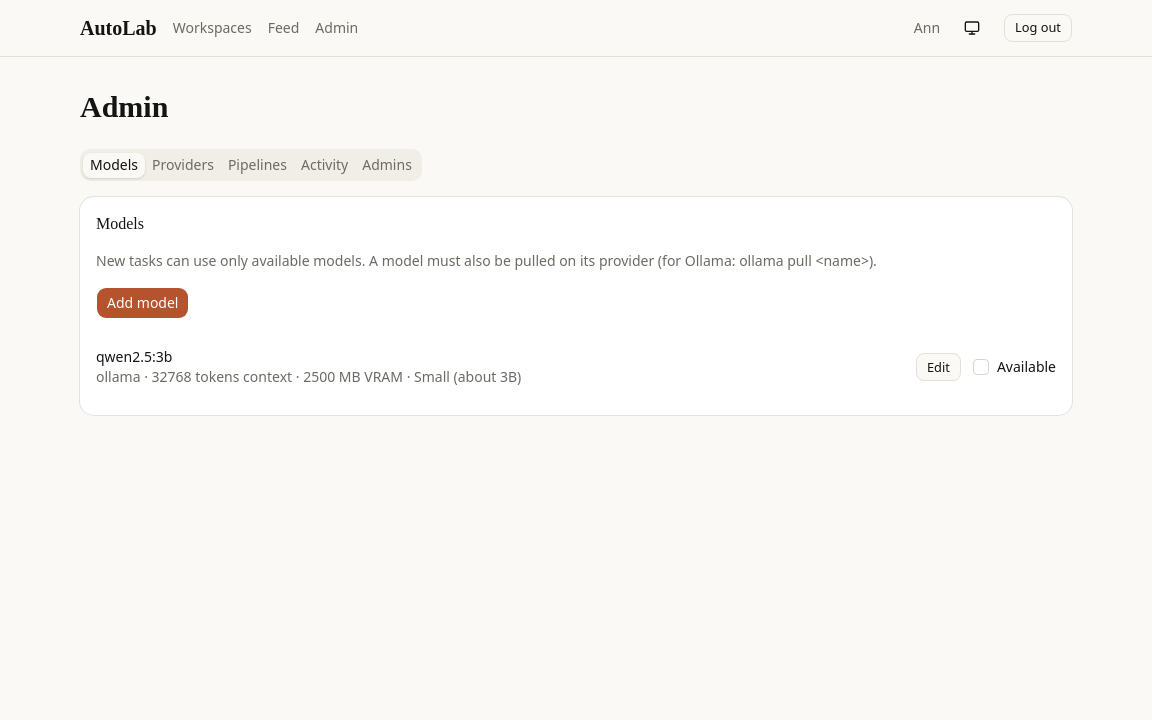
Test case: an admin adds a model and makes it available
expect the text "qwen2.5:3b" is shown: met, box [96, 347, 172, 366]
expect the text "ollama · 32768 tokens context · 2500 MB VRAM · Small (about 3B)" is shown: met, box [96, 367, 521, 387]
Click the checkbox named "Available".
click(981, 367)  # box [973, 359, 989, 375]
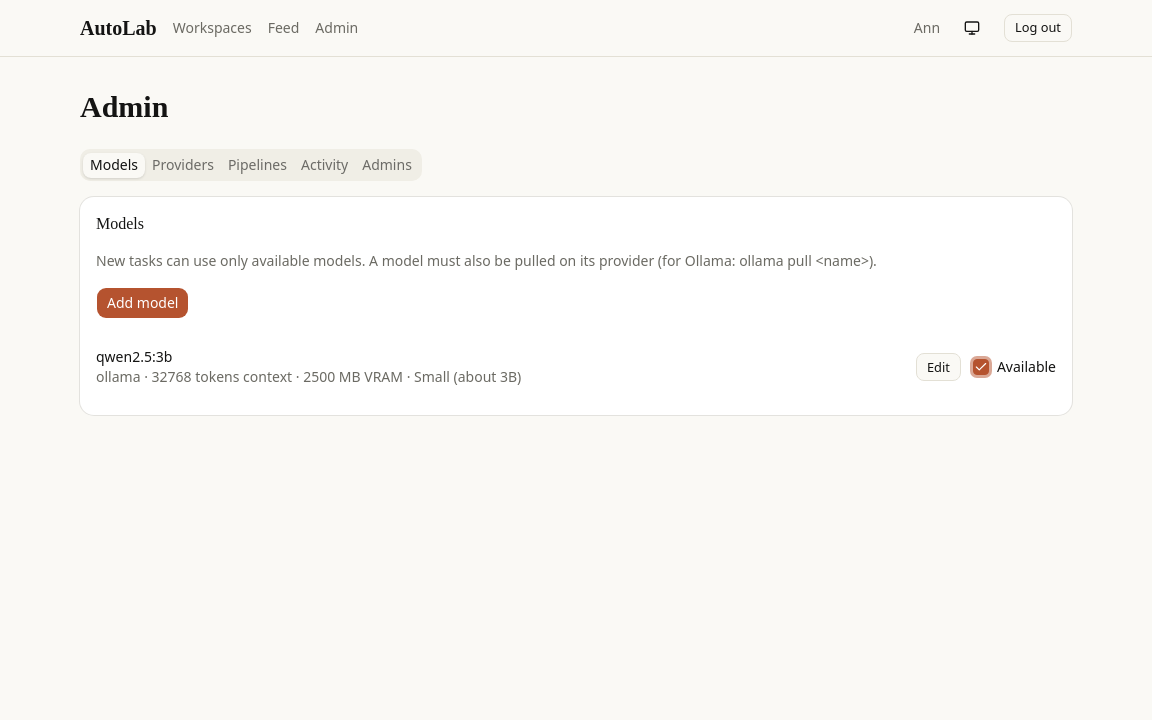
Click the button "Add model".
click(143, 303)  # box [96, 287, 190, 319]
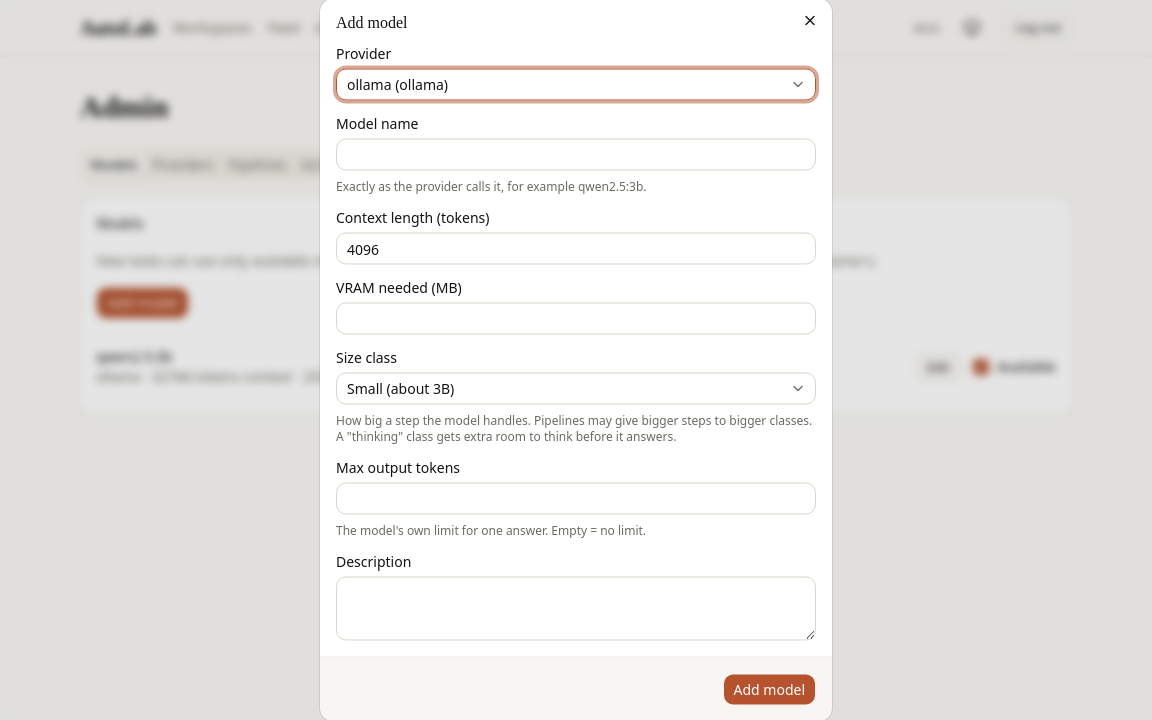
Type "llama3.2:3b" into the field labelled "Model name".
click(576, 154); type("llama3.2:3b")  # box [336, 138, 816, 170]
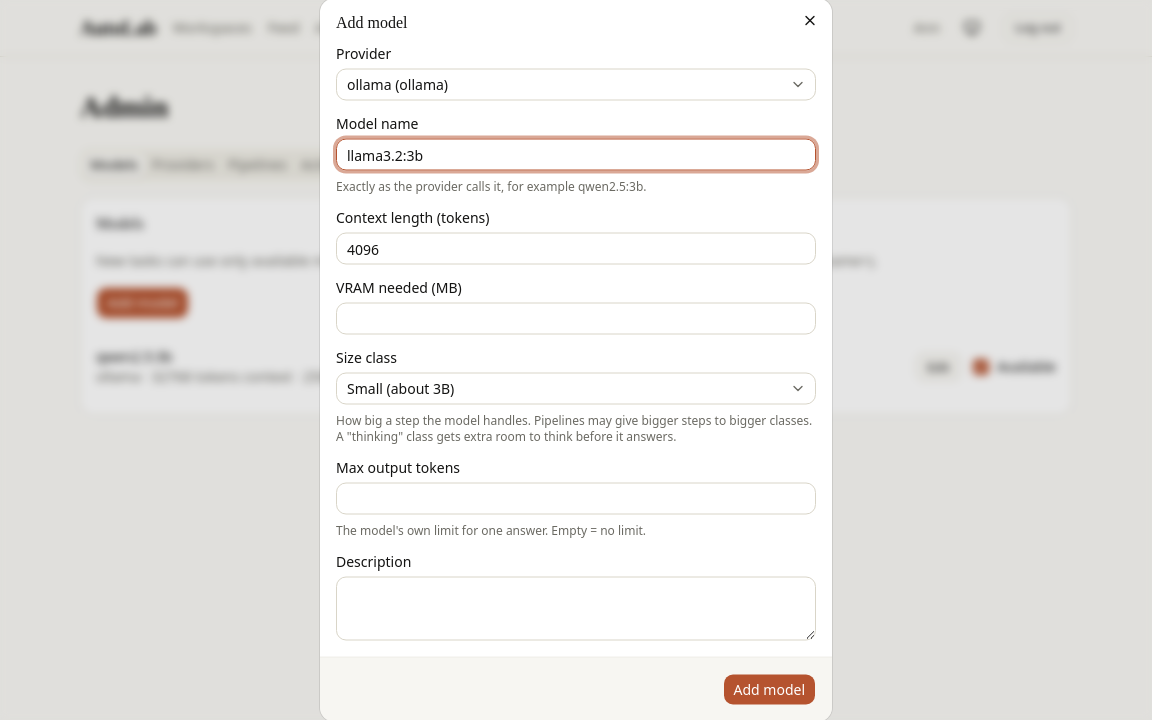
Click the button "Add model".
click(769, 690)  # box [722, 674, 816, 706]
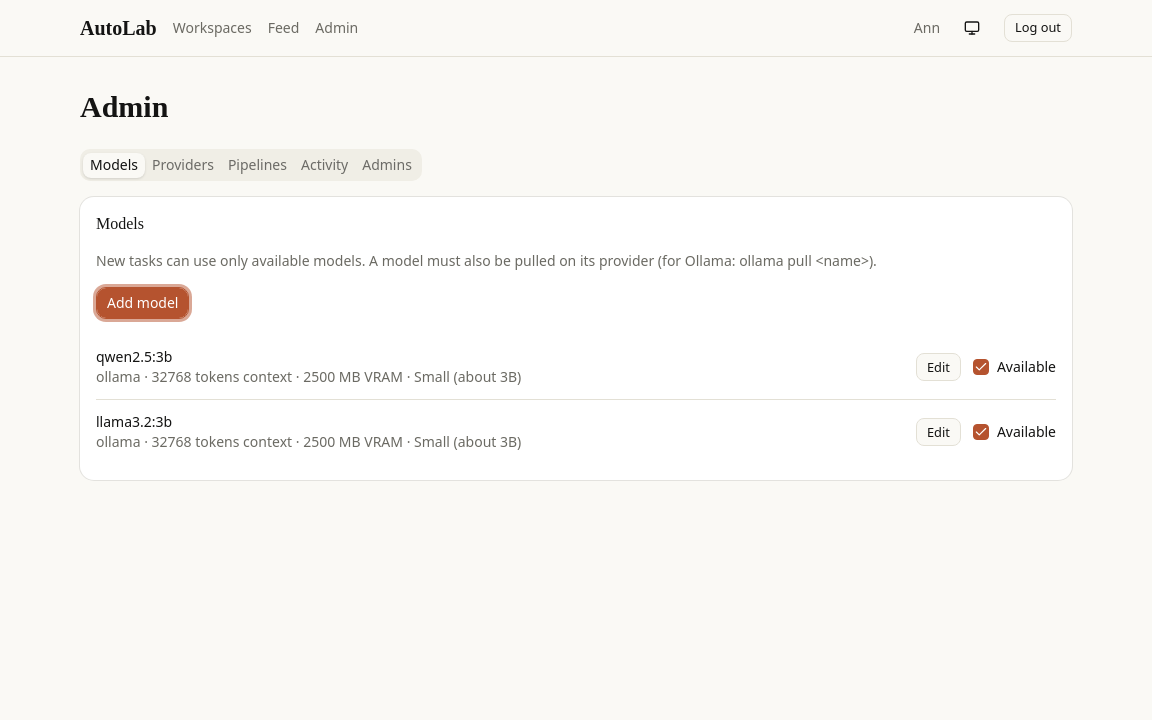
expect the text "llama3.2:3b" is shown: met, box [96, 412, 172, 431]
